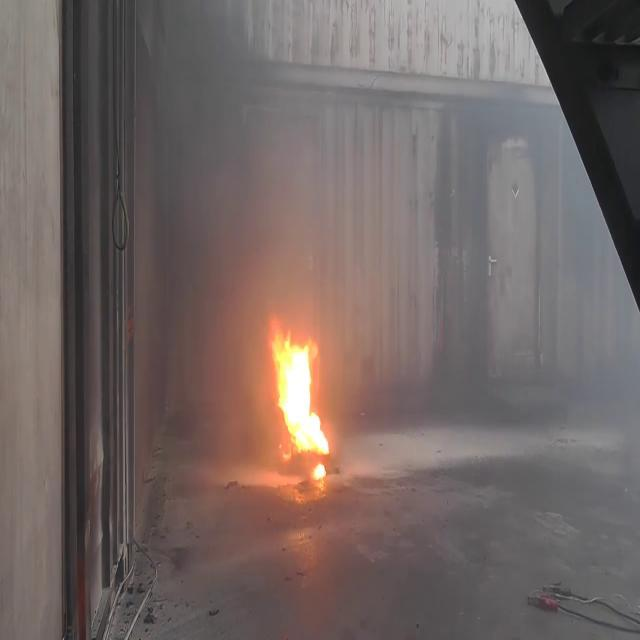Fire: (268, 318, 332, 472)
Smoke: (136, 2, 370, 437)
